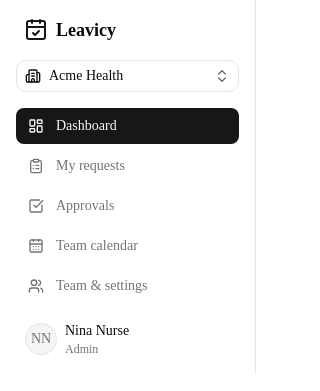
Test: AppSidebar › opens the company switcher with a grouped label without crashing
The width and height of the screenshot is (320, 391).
Click the button "Acme Health" at (128, 76), box [16,60,239,92]
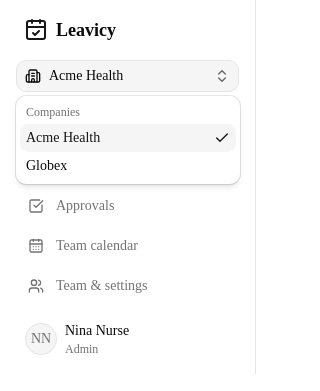
Expected: the text "Companies" is shown, [26,105,80,119]
Expected: the text "Globex" is shown, [26,156,67,176]
